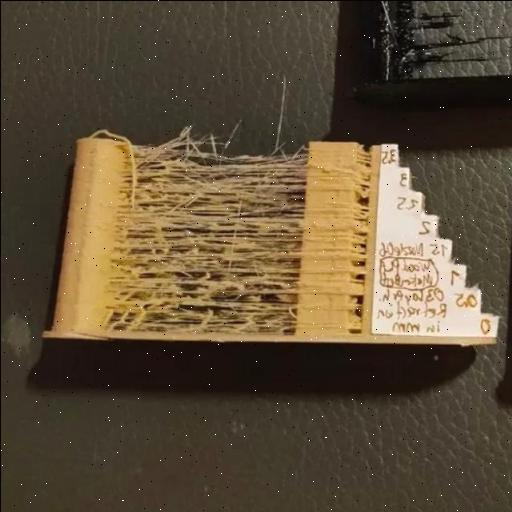stringing: (97, 140, 307, 338)
